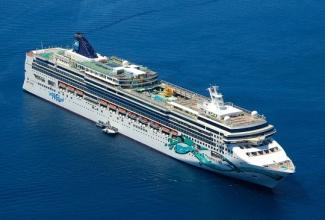otherboat: (94, 118, 120, 135)
youlun: (17, 28, 299, 187)
